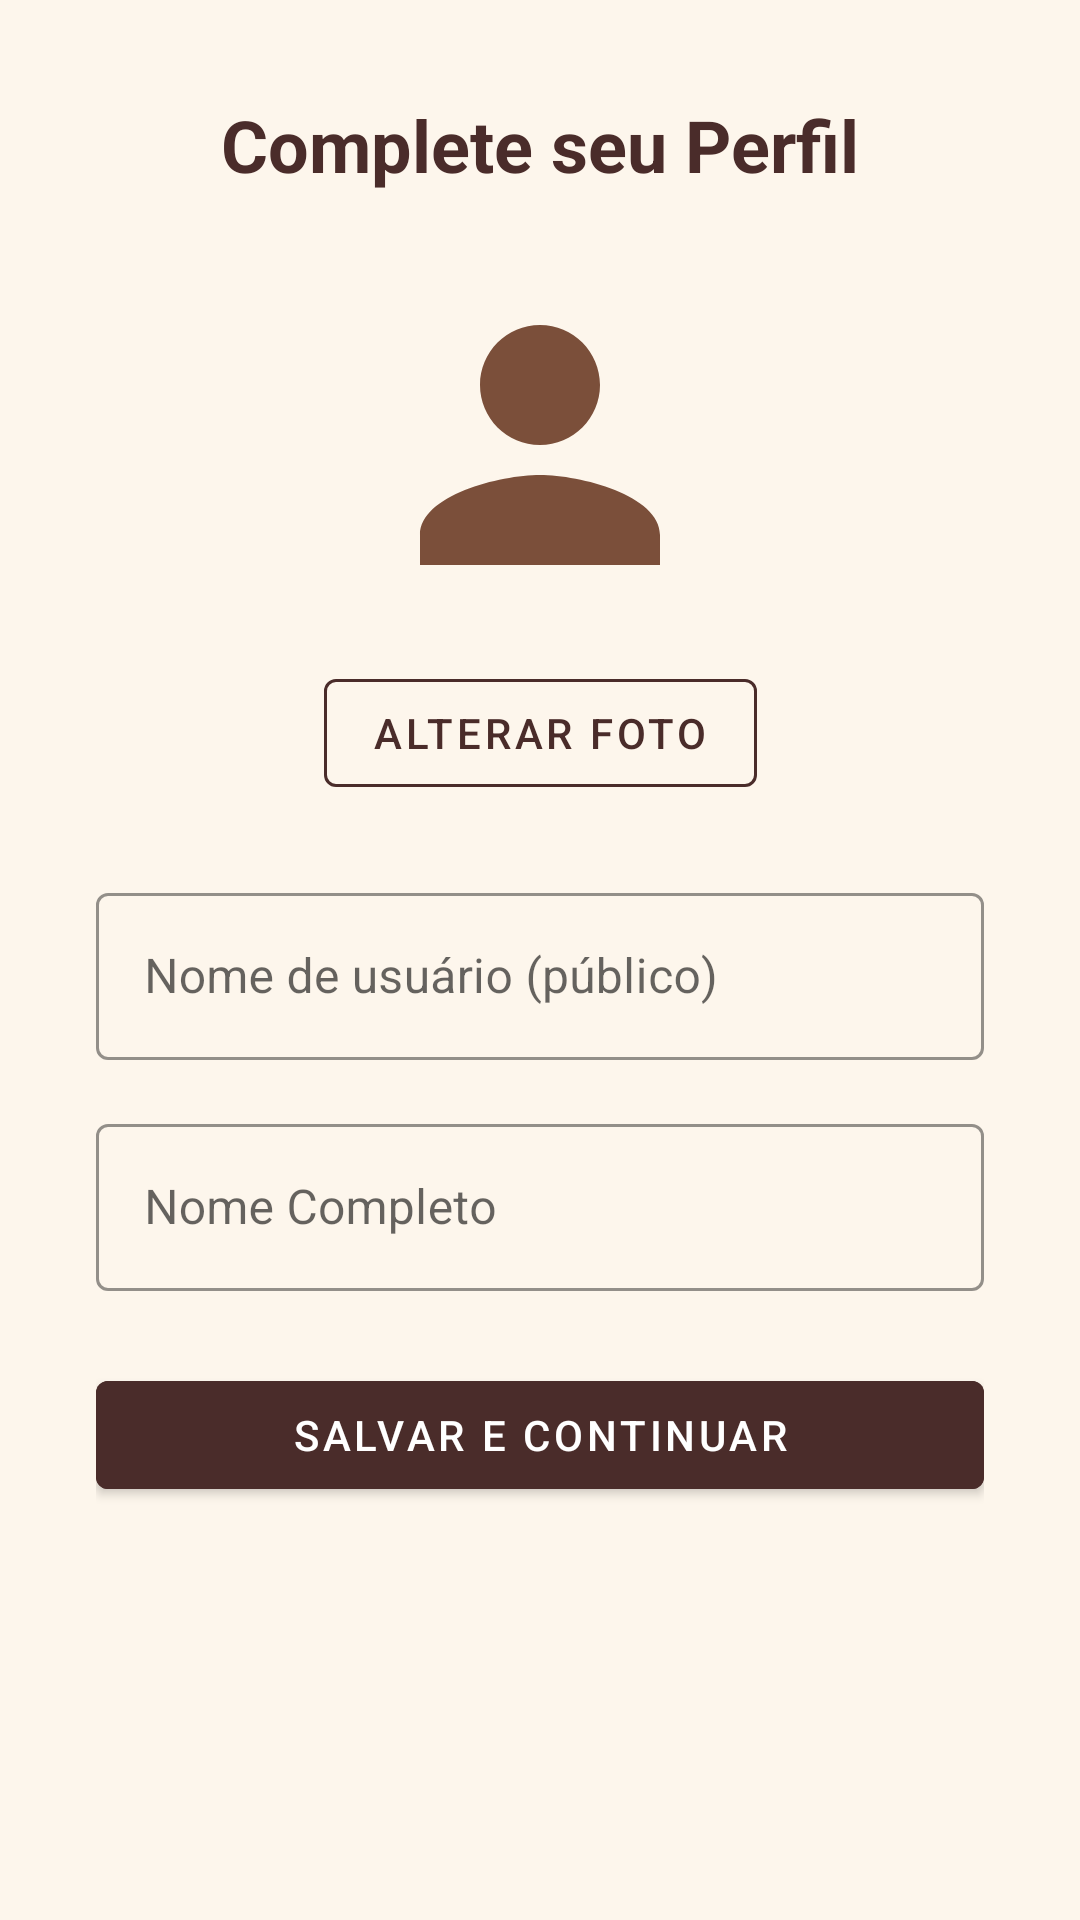

Screen size 1080 x 1920. Icon name, then its box in pixels as (x1, y1, x2, y2):
person: (420, 325, 660, 565)
